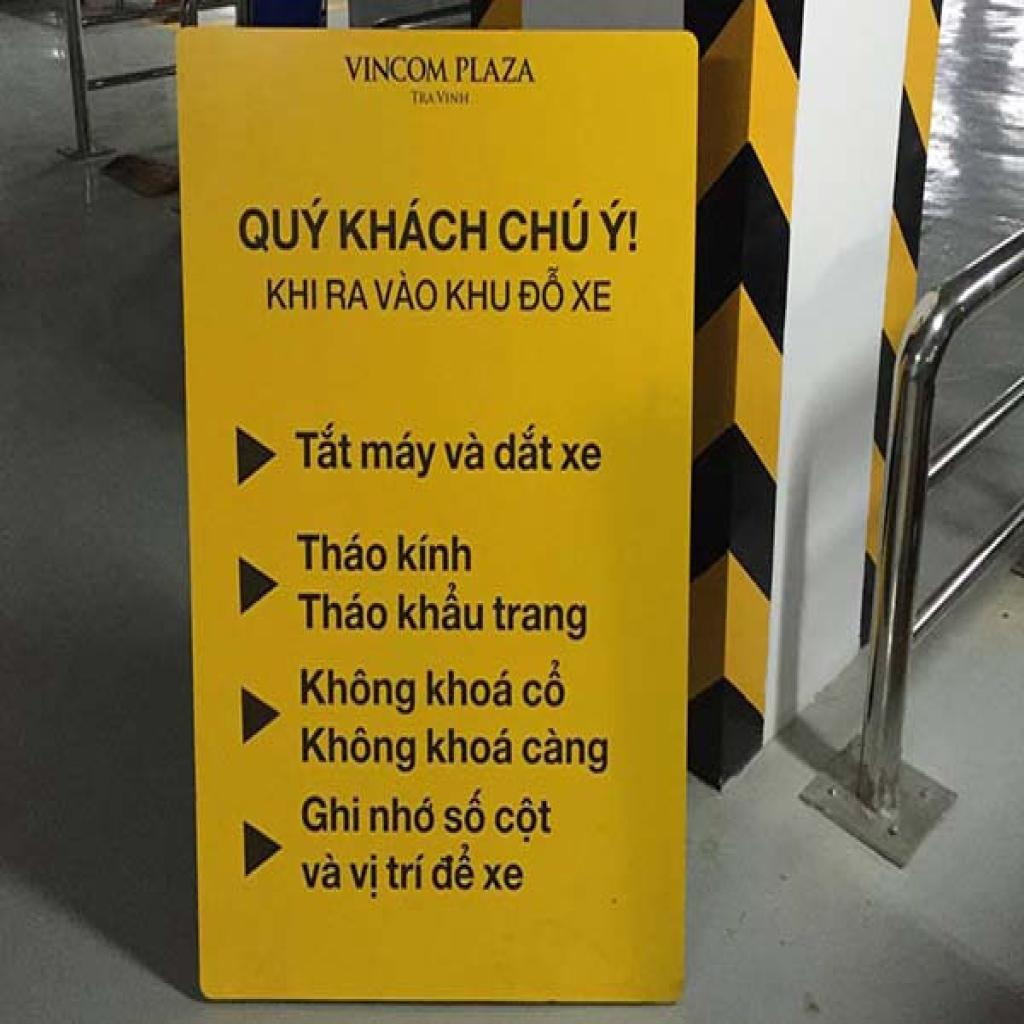text: (338, 198, 490, 255), (300, 726, 418, 780), (300, 667, 418, 719), (234, 196, 334, 255), (498, 196, 590, 255), (396, 580, 488, 635), (493, 596, 589, 646), (521, 726, 611, 778), (295, 530, 391, 576), (360, 430, 444, 480), (297, 592, 391, 635), (427, 667, 515, 712), (427, 726, 515, 769), (493, 418, 555, 476), (342, 54, 452, 86), (396, 532, 474, 576), (294, 419, 355, 473), (372, 268, 440, 316), (368, 794, 438, 838), (493, 794, 553, 844), (298, 794, 362, 838), (521, 660, 570, 712), (597, 198, 640, 257), (430, 842, 478, 894), (445, 278, 512, 314), (517, 266, 567, 314), (442, 788, 488, 838), (454, 57, 538, 84), (266, 278, 319, 314), (444, 430, 488, 473), (299, 851, 343, 894), (558, 439, 606, 476), (346, 854, 379, 904), (326, 278, 372, 312), (386, 854, 425, 894), (570, 280, 614, 314), (435, 91, 471, 109), (410, 89, 437, 109)
